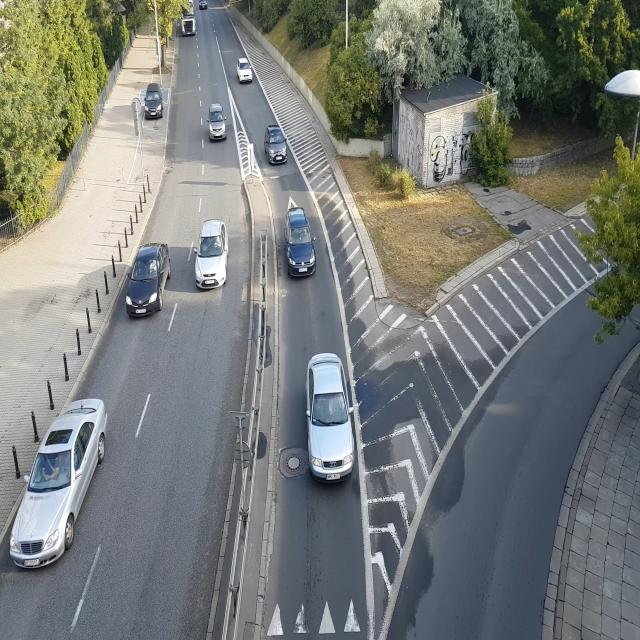car: (8, 395, 116, 581), (296, 352, 361, 496), (125, 243, 173, 320), (194, 220, 230, 289), (285, 209, 316, 278), (264, 123, 290, 165), (208, 104, 228, 142), (143, 89, 165, 119), (236, 58, 253, 83), (198, 0, 210, 15)
truck: (180, 0, 199, 45)
